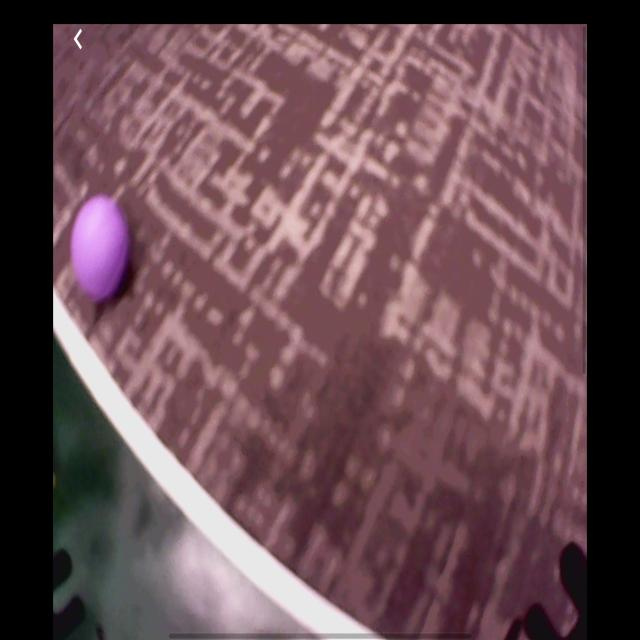ball: (72, 199, 128, 303)
